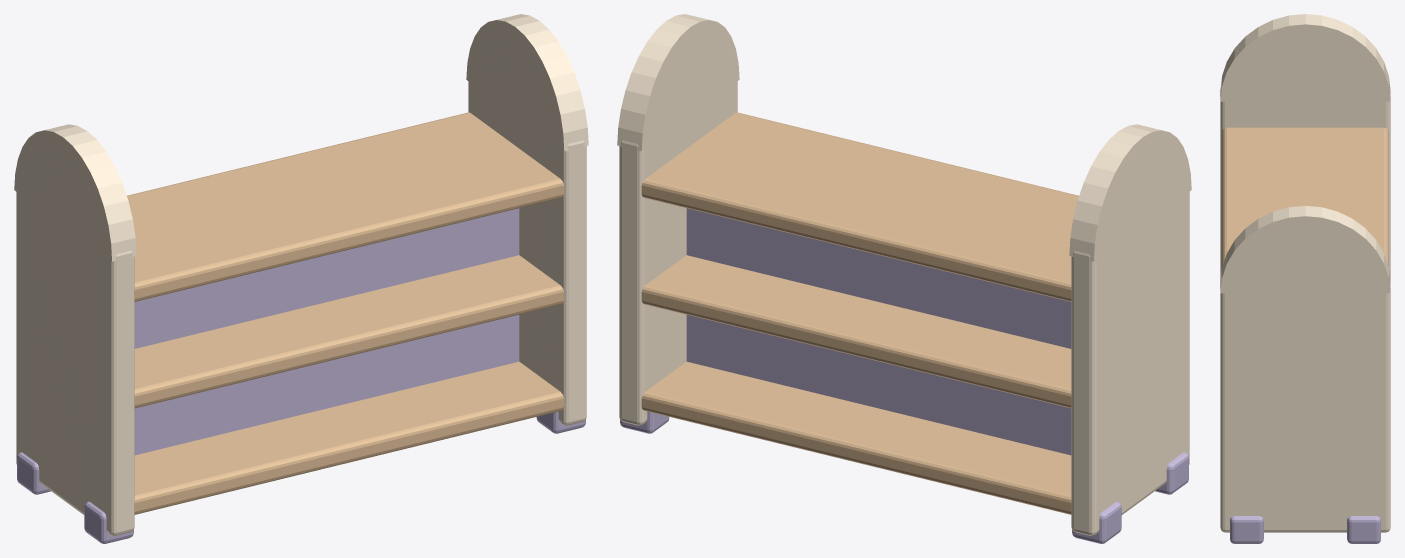
The model's file is arched-display-shelf.glb.
3 renders of one model, left to right at view 1: azimuth 30°, elevation 25°; view 2: azimuth 150°, elevation 25°; view 3: azimuth 270°, elevation 25°, orthographic. The views are drawn at different scales.
Visible parts, largest first — view 1: Shelf board.002, Painted center divider, Rounded end, Shelf board, Shelf board.001, Rounded end.001, Soft arch endcap.001, Soft arch endcap, Shelf foot.001, Shelf foot; view 2: Shelf board.002, Painted center divider, Rounded end, Shelf board, Shelf board.001, Rounded end.001, Soft arch endcap.001, Soft arch endcap, Shelf foot, Shelf foot.001; view 3: Rounded end.001, Shelf board.002, Soft arch endcap, Soft arch endcap.001, Rounded end, Shelf foot.002, Shelf foot.003.
Part boxes in pixels (bbox=[...]): Shelf board.002: bbox=[127, 112, 564, 301]; Painted center divider: bbox=[134, 208, 519, 455]; Rounded end: bbox=[16, 188, 134, 535]; Shelf board: bbox=[134, 361, 564, 514]; Shelf board.001: bbox=[134, 255, 564, 408]; Rounded end.001: bbox=[468, 79, 586, 425]; Soft arch endcap.001: bbox=[466, 14, 588, 151]; Soft arch endcap: bbox=[14, 124, 136, 261]; Shelf foot.001: bbox=[84, 501, 133, 543]; Shelf foot: bbox=[17, 452, 50, 494]; Shelf board.002: bbox=[641, 112, 1078, 301]; Painted center divider: bbox=[686, 208, 1071, 455]; Rounded end: bbox=[1071, 188, 1189, 535]; Shelf board: bbox=[641, 361, 1071, 514]; Shelf board.001: bbox=[641, 255, 1071, 408]; Rounded end.001: bbox=[619, 80, 737, 425]; Soft arch endcap.001: bbox=[617, 14, 739, 151]; Soft arch endcap: bbox=[1069, 124, 1191, 261]; Shelf foot: bbox=[1072, 501, 1121, 543]; Shelf foot.001: bbox=[1155, 452, 1188, 494]; Rounded end.001: bbox=[1220, 280, 1390, 532]; Shelf board.002: bbox=[1222, 127, 1388, 266]; Soft arch endcap: bbox=[1220, 14, 1390, 101]; Soft arch endcap.001: bbox=[1220, 206, 1390, 293]; Rounded end: bbox=[1220, 88, 1390, 280]; Shelf foot.002: bbox=[1347, 516, 1380, 543]; Shelf foot.003: bbox=[1230, 516, 1263, 543].
Bounding box in the file's own units: 2.58 × 1.91 × 0.9.
